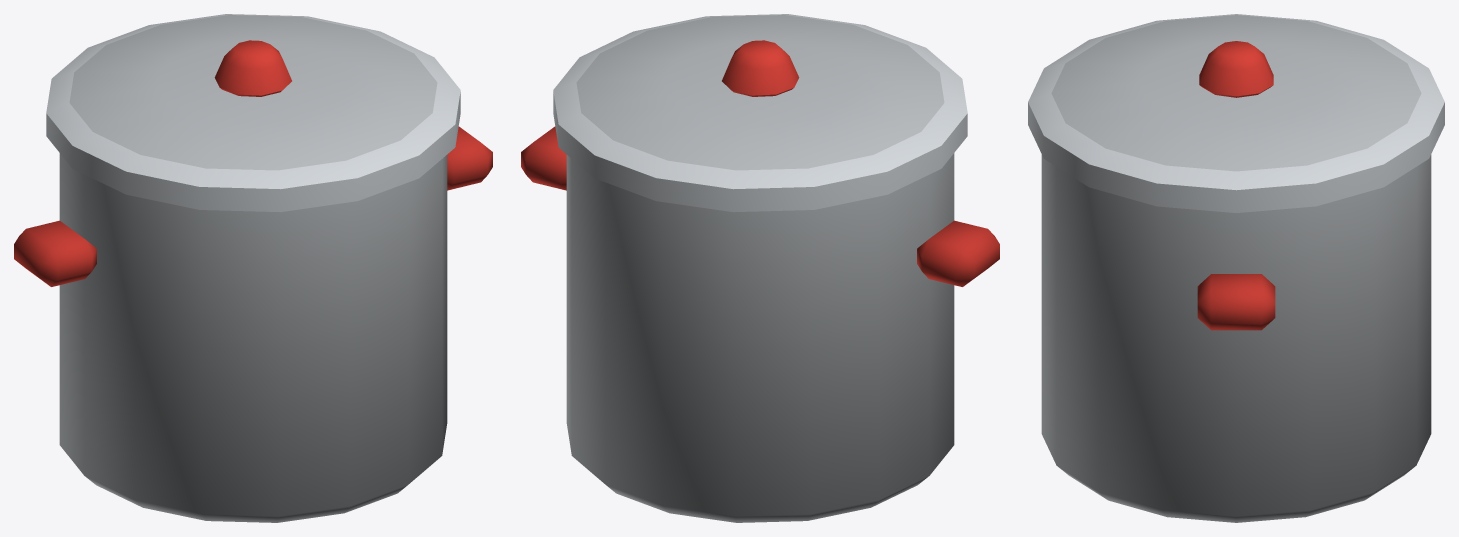
File: SM_StockPot_Large_01.glb
The picture shows the model from 3 angles, left to right: view 1: azimuth 30°, elevation 25°; view 2: azimuth 150°, elevation 25°; view 3: azimuth 270°, elevation 25°; orthographic projection.
Parts seen in each view (by area): view 1: SM_StockPot_Large_01; view 2: SM_StockPot_Large_01; view 3: SM_StockPot_Large_01.
Part boxes in pixels (bbox=[...]): SM_StockPot_Large_01: bbox=[14, 14, 492, 522]; SM_StockPot_Large_01: bbox=[521, 14, 999, 522]; SM_StockPot_Large_01: bbox=[1028, 14, 1444, 522].
Size of the model in its own units: 0.536 by 0.45 by 0.428.
1 material, 1 textured.
